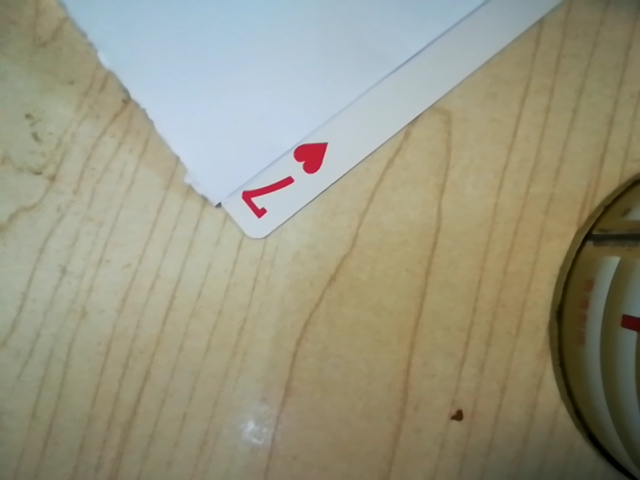hx 7: (231, 137, 335, 225)
